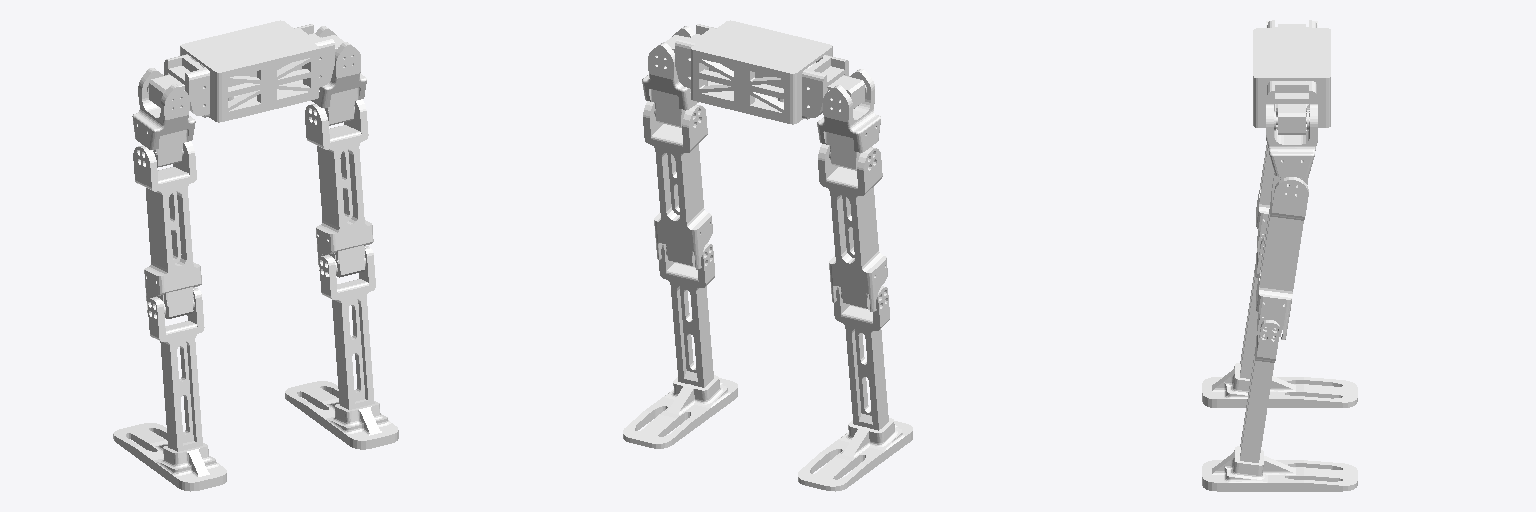
robot.urdf — LeggyBot6DoF:
<?xml version="1.0" encoding="utf-8"?>
<!-- This URDF was automatically created by SolidWorks to URDF Exporter! Originally created by Stephen Brawner (brawner@gmail.com) 
     Commit Version: 1.6.0-4-g7f85cfe  Build Version: 1.6.7995.38578
     For more information, please see http://wiki.ros.org/sw_urdf_exporter -->
<robot
  name="LeggyBot6DoF">
  <!-- Reconciled with the validated LeggyBot fixed-ankle six-DOF profile:
       BaseLink and the six upstream revolute joints retain the established
       actuator axes/ranges.  The exported Right/LeftShin -> Right/LeftFoot
       fixed joints are retained as the physical fixed ankles. -->
  <link
    name="BaseLink">
    <inertial>
      <origin
        xyz="-0.11149 0.48454 0.0239"
        rpy="0 0 0" />
      <mass
        value="0.542" />
      <inertia
        ixx="0.00037886"
        ixy="-2.5317E-11"
        ixz="9.6504E-11"
        iyy="0.0012936"
        iyz="5.4561E-08"
        izz="0.0011305" />
    </inertial>
    <visual>
      <origin
        xyz="0 0 0"
        rpy="0 0 0" />
      <geometry>
        <mesh
          filename="package://LeggyBot6DoF/meshes/FloatingBase.STL" />
      </geometry>
      <material
        name="">
        <color
          rgba="1 1 1 1" />
      </material>
    </visual>
    <collision>
      <origin
        xyz="0 0 0"
        rpy="0 0 0" />
      <geometry>
        <mesh
          filename="package://LeggyBot6DoF/meshes/FloatingBase.STL" />
      </geometry>
    </collision>
  </link>
  <link
    name="RightHip">
    <inertial>
      <origin
        xyz="-0.0001433 0.0011909 0.0267"
        rpy="0 0 0" />
      <mass
        value="0.102" />
      <inertia
        ixx="5.2172E-05"
        ixy="-2.137E-09"
        ixz="3.2038E-11"
        iyy="4.3682E-05"
        iyz="3.9052E-11"
        izz="4.6004E-05" />
    </inertial>
    <visual>
      <origin
        xyz="0 0 0"
        rpy="0 0 0" />
      <geometry>
        <mesh
          filename="package://LeggyBot6DoF/meshes/RightHip.STL" />
      </geometry>
      <material
        name="">
        <color
          rgba="1 1 1 1" />
      </material>
    </visual>
    <collision>
      <origin
        xyz="0 0 0"
        rpy="0 0 0" />
      <geometry>
        <mesh
          filename="package://LeggyBot6DoF/meshes/RightHip.STL" />
      </geometry>
    </collision>
  </link>
  <joint
    name="RightBaseToHip"
    type="revolute">
    <origin
      xyz="-0.010073 0.0029341 0.45025"
      rpy="1.5708 0 0" />
    <parent
      link="BaseLink" />
    <child
      link="RightHip" />
    <axis
      xyz="0 0 1" />
    <limit
      lower="-0.174533"
      upper="0.785398"
      effort="2.942"
      velocity="4.712" />
  </joint>
  <link
    name="RightThigh">
    <inertial>
      <origin
        xyz="-8.1399E-07 0.045927 0.017387"
        rpy="0 0 0" />
      <mass
        value="0.154" />
      <inertia
        ixx="0.00040883"
        ixy="-1.2646E-06"
        ixz="-5.4649E-09"
        iyy="6.1873E-05"
        iyz="-4.3543E-06"
        izz="0.00043119" />
    </inertial>
    <visual>
      <origin
        xyz="0 0 0"
        rpy="0 0 0" />
      <geometry>
        <mesh
          filename="package://LeggyBot6DoF/meshes/RightThigh.STL" />
      </geometry>
      <material
        name="">
        <color
          rgba="1 1 1 1" />
      </material>
    </visual>
    <collision>
      <origin
        xyz="0 0 0"
        rpy="0 0 0" />
      <geometry>
        <mesh
          filename="package://LeggyBot6DoF/meshes/RightThigh.STL" />
      </geometry>
    </collision>
  </link>
  <joint
    name="RightHipToThigh"
    type="revolute">
    <origin
      xyz="0 -0.16576 0.027732"
      rpy="-0.13963 0 0" />
    <parent
      link="RightHip" />
    <child
      link="RightThigh" />
    <axis
      xyz="1 0 0" />
    <limit
      lower="-1.047198"
      upper="1.047198"
      effort="2.942"
      velocity="4.712" />
  </joint>
  <link
    name="RightShin">
    <inertial>
      <origin
        xyz="0.015 0.090654 0.01001"
        rpy="0 0 0" />
      <mass
        value="0.061" />
      <inertia
        ixx="0.00026237"
        ixy="-2.3624E-11"
        ixz="-2.7099E-13"
        iyy="2.1178E-05"
        iyz="1.1747E-07"
        izz="0.00027738" />
    </inertial>
    <visual>
      <origin
        xyz="0 0 0"
        rpy="0 0 0" />
      <geometry>
        <mesh
          filename="package://LeggyBot6DoF/meshes/RightShin.STL" />
      </geometry>
      <material
        name="">
        <color
          rgba="1 1 1 1" />
      </material>
    </visual>
    <collision>
      <origin
        xyz="0 0 0"
        rpy="0 0 0" />
      <geometry>
        <mesh
          filename="package://LeggyBot6DoF/meshes/RightShin.STL" />
      </geometry>
    </collision>
  </link>
  <joint
    name="RightKnee"
    type="revolute">
    <origin
      xyz="-0.015 -0.1996 0.00765"
      rpy="0 0 0" />
    <parent
      link="RightThigh" />
    <child
      link="RightShin" />
    <axis
      xyz="1 0 0" />
    <limit
      lower="-2.094395"
      upper="0.261799"
      effort="2.942"
      velocity="4.712" />
  </joint>
  <link
    name="RightFoot">
    <inertial>
      <origin
        xyz="-1.0566E-07 -0.0162 0.0078317"
        rpy="0 0 0" />
      <mass
        value="0.069" />
      <inertia
        ixx="0.00021003"
        ixy="4.3933E-11"
        ixz="2.8916E-11"
        iyy="3.4562E-05"
        iyz="8.9283E-06"
        izz="0.0002338" />
    </inertial>
    <visual>
      <origin
        xyz="0 0 0"
        rpy="0 0 0" />
      <geometry>
        <mesh
          filename="package://LeggyBot6DoF/meshes/RightFoot.STL" />
      </geometry>
      <material
        name="">
        <color
          rgba="1 1 1 1" />
      </material>
    </visual>
    <collision>
      <origin
        xyz="0 0 0"
        rpy="0 0 0" />
      <geometry>
        <mesh
          filename="package://LeggyBot6DoF/meshes/RightFoot.STL" />
      </geometry>
    </collision>
  </link>
  <joint
    name="RightAnkle"
    type="fixed">
    <origin
      xyz="0.015 -0.0081898 -0.025136"
      rpy="-1.4312 0 0" />
    <parent
      link="RightShin" />
    <child
      link="RightFoot" />
    <axis
      xyz="0 0 0" />
  </joint>
  <link
    name="LeftHip">
    <inertial>
      <origin
        xyz="-0.0001433 0.0011909 0.0267"
        rpy="0 0 0" />
      <mass
        value="0.102" />
      <inertia
        ixx="5.2172E-05"
        ixy="-2.137E-09"
        ixz="3.2039E-11"
        iyy="4.3682E-05"
        iyz="3.9055E-11"
        izz="4.6004E-05" />
    </inertial>
    <visual>
      <origin
        xyz="0 0 0"
        rpy="0 0 0" />
      <geometry>
        <mesh
          filename="package://LeggyBot6DoF/meshes/LeftHip.STL" />
      </geometry>
      <material
        name="">
        <color
          rgba="1 1 1 1" />
      </material>
    </visual>
    <collision>
      <origin
        xyz="0 0 0"
        rpy="0 0 0" />
      <geometry>
        <mesh
          filename="package://LeggyBot6DoF/meshes/LeftHip.STL" />
      </geometry>
    </collision>
  </link>
  <joint
    name="LeftBaseToHip"
    type="revolute">
    <origin
      xyz="-0.21327 0.0029341 0.45025"
      rpy="1.5708 0 0" />
    <parent
      link="BaseLink" />
    <child
      link="LeftHip" />
    <axis
      xyz="0 0 1" />
    <limit
      lower="-0.785398"
      upper="0.174533"
      effort="2.942"
      velocity="4.712" />
  </joint>
  <link
    name="LeftThigh">
    <inertial>
      <origin
        xyz="-8.1399E-07 0.045927 0.017387"
        rpy="0 0 0" />
      <mass
        value="0.154" />
      <inertia
        ixx="0.00040883"
        ixy="-1.2646E-06"
        ixz="-5.4649E-09"
        iyy="6.1873E-05"
        iyz="-4.3543E-06"
        izz="0.00043119" />
    </inertial>
    <visual>
      <origin
        xyz="0 0 0"
        rpy="0 0 0" />
      <geometry>
        <mesh
          filename="package://LeggyBot6DoF/meshes/LeftThigh.STL" />
      </geometry>
      <material
        name="">
        <color
          rgba="1 1 1 1" />
      </material>
    </visual>
    <collision>
      <origin
        xyz="0 0 0"
        rpy="0 0 0" />
      <geometry>
        <mesh
          filename="package://LeggyBot6DoF/meshes/LeftThigh.STL" />
      </geometry>
    </collision>
  </link>
  <joint
    name="LeftHipToThigh"
    type="revolute">
    <origin
      xyz="0 -0.16576 0.027732"
      rpy="-0.13963 0 0" />
    <parent
      link="LeftHip" />
    <child
      link="LeftThigh" />
    <axis
      xyz="1 0 0" />
    <limit
      lower="-1.047198"
      upper="1.047198"
      effort="2.942"
      velocity="4.712" />
  </joint>
  <link
    name="LeftShin">
    <inertial>
      <origin
        xyz="0.015 0.090654 0.01001"
        rpy="0 0 0" />
      <mass
        value="0.061" />
      <inertia
        ixx="0.00026237"
        ixy="-2.3624E-11"
        ixz="-2.7099E-13"
        iyy="2.1178E-05"
        iyz="1.1747E-07"
        izz="0.00027738" />
    </inertial>
    <visual>
      <origin
        xyz="0 0 0"
        rpy="0 0 0" />
      <geometry>
        <mesh
          filename="package://LeggyBot6DoF/meshes/LeftShin.STL" />
      </geometry>
      <material
        name="">
        <color
          rgba="1 1 1 1" />
      </material>
    </visual>
    <collision>
      <origin
        xyz="0 0 0"
        rpy="0 0 0" />
      <geometry>
        <mesh
          filename="package://LeggyBot6DoF/meshes/LeftShin.STL" />
      </geometry>
    </collision>
  </link>
  <joint
    name="LeftKnee"
    type="revolute">
    <origin
      xyz="-0.015 -0.1996 0.00765"
      rpy="0 0 0" />
    <parent
      link="LeftThigh" />
    <child
      link="LeftShin" />
    <axis
      xyz="1 0 0" />
    <limit
      lower="-2.094395"
      upper="0.261799"
      effort="2.942"
      velocity="4.712" />
  </joint>
  <link
    name="LeftFoot">
    <inertial>
      <origin
        xyz="-1.0566E-07 -0.0162 0.0078317"
        rpy="0 0 0" />
      <mass
        value="0.069" />
      <inertia
        ixx="0.00021003"
        ixy="4.3918E-11"
        ixz="2.8906E-11"
        iyy="3.4562E-05"
        iyz="8.9283E-06"
        izz="0.0002338" />
    </inertial>
    <visual>
      <origin
        xyz="0 0 0"
        rpy="0 0 0" />
      <geometry>
        <mesh
          filename="package://LeggyBot6DoF/meshes/LeftFoot.STL" />
      </geometry>
      <material
        name="">
        <color
          rgba="1 1 1 1" />
      </material>
    </visual>
    <collision>
      <origin
        xyz="0 0 0"
        rpy="0 0 0" />
      <geometry>
        <mesh
          filename="package://LeggyBot6DoF/meshes/LeftFoot.STL" />
      </geometry>
    </collision>
  </link>
  <joint
    name="LeftAnkle"
    type="fixed">
    <origin
      xyz="0.015 -0.0081898 -0.025136"
      rpy="-1.4312 0 0" />
    <parent
      link="LeftShin" />
    <child
      link="LeftFoot" />
    <axis
      xyz="0 0 0" />
  </joint>
</robot>

--- What the picture shows (computed from the rendered views, not written in the file) ---
Views: 3 orthographic renders of the robot side by side, from view 1: azimuth 30°, elevation 25°; view 2: azimuth 150°, elevation 25°; view 3: azimuth 270°, elevation 25°.
Robot: LeggyBot6DoF — 9 links, 8 joints (6 revolute, 2 fixed); root link BaseLink; default pose: all joints at 0.
Visible links, largest first — view 1: BaseLink, LeftThigh, RightThigh, RightShin, LeftShin, RightFoot, LeftFoot, LeftHip, RightHip; view 2: BaseLink, RightThigh, LeftThigh, RightShin, LeftShin, RightFoot, LeftFoot, LeftHip, RightHip; view 3: BaseLink, RightThigh, RightFoot, LeftFoot, RightShin, RightHip, LeftShin, LeftThigh.
Boxes of the visible links, x1,y1,x2,y2 form: BaseLink: (147, 20, 343, 122); LeftThigh: (133, 141, 201, 318); RightThigh: (305, 99, 373, 277); RightShin: (319, 246, 375, 409); LeftShin: (148, 287, 204, 451); RightFoot: (285, 381, 398, 449); LeftFoot: (113, 423, 226, 491); LeftHip: (132, 68, 195, 167); RightHip: (311, 26, 366, 125); BaseLink: (665, 20, 866, 124); RightThigh: (643, 101, 712, 269); LeftThigh: (818, 144, 887, 311); RightShin: (659, 243, 714, 387); LeftShin: (834, 286, 889, 430); RightFoot: (623, 375, 737, 448); LeftFoot: (798, 418, 912, 491); LeftHip: (817, 69, 880, 170); RightHip: (642, 26, 698, 127); BaseLink: (1253, 20, 1330, 134); RightThigh: (1256, 173, 1308, 339); RightFoot: (1202, 446, 1357, 491); LeftFoot: (1202, 363, 1357, 407); RightShin: (1240, 320, 1279, 462); RightHip: (1266, 104, 1317, 180); LeftShin: (1240, 237, 1264, 378); LeftThigh: (1256, 145, 1273, 251).
Size in the robot's own frame: 0.2582 by 0.16 by 0.4387 metres.
9 mesh visuals loaded from 9 distinct referenced files (9 binary STL).
